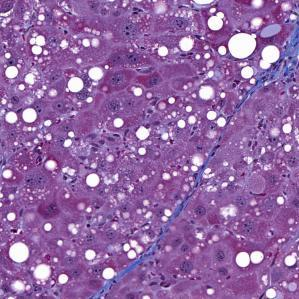fibrosis: (248, 22, 299, 91)
